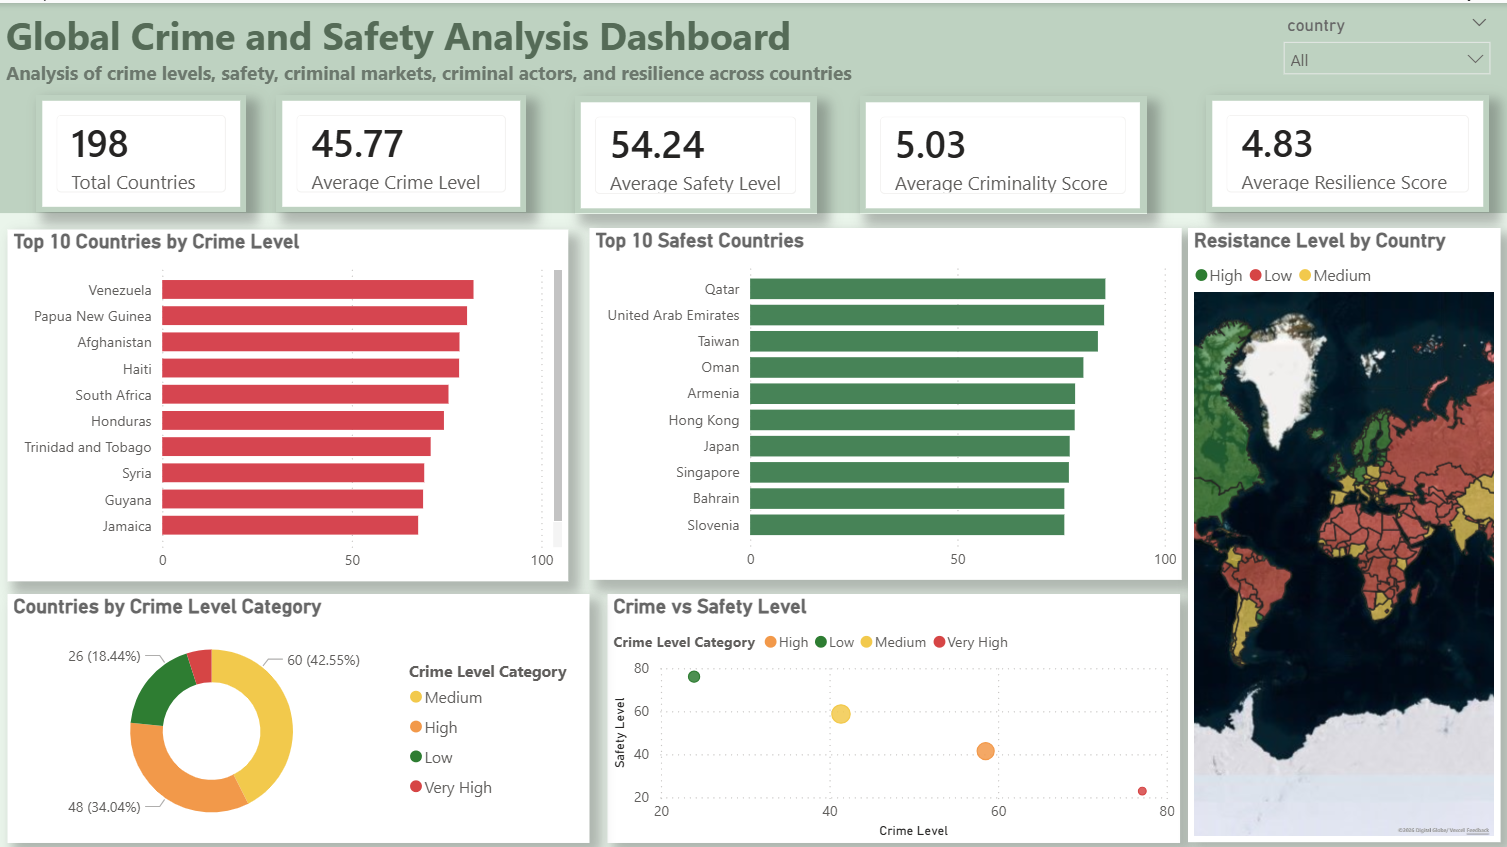

What the dashboard file says about the page in this screenshot:
{"tool":"powerbi","page":{"name":"Page 1","canvas":[1280,720],"ordinal":0},"visuals":[{"type":"shape","box":[0,0,1280,178.3],"z":0},{"type":"cardVisual","fields":{"Data":["CrimeRate.Total Countries"]},"box":[30,77.5,178.8,100],"z":1000},{"type":"cardVisual","fields":{"Data":["CrimeRate.Average Crime Level"]},"box":[234,78,212,100],"z":2000},{"type":"cardVisual","fields":{"Data":["CrimeRate.Average Safety Level"]},"box":[487.1,78.6,205.7,100],"z":3000},{"type":"cardVisual","fields":{"Data":["CrimeRate.Average Resilience Score"]},"box":[1023.8,77.5,240,100],"z":4000},{"type":"cardVisual","fields":{"Data":["CrimeRate.Average Criminality Score"]},"box":[730,78.8,243.8,100],"z":5000},{"type":"textbox","box":[0,0,730,78.6],"z":6000},{"type":"clusteredBarChart","title":"Top 10 Countries by Crime Level","fields":{"Category":["CrimeRate.country"],"Y":["Sum(CrimeRate.Overall Crime Level)"]},"box":[5.8,191.7,475.8,298.3],"z":7000},{"type":"clusteredBarChart","title":"Top 10 Safest Countries","fields":{"Category":["CrimeRate.country"],"Y":["Sum(CrimeRate.Safety Level)"]},"box":[500,191.4,502.9,298.6],"z":8000},{"type":"scatterChart","title":"Crime vs Safety Level","fields":{"X":["Avg(CrimeRate.Overall Crime Level)"],"Y":["Avg(CrimeRate.Safety Level)"],"Series":["CrimeRate.Crime Level Category"],"Size":["Sum(CrimeRate.Criminality Score)"]},"box":[516.2,501.2,486.2,211.2],"z":9000},{"type":"donutChart","title":"Countries by Crime Level Category","fields":{"Category":["CrimeRate.Crime Level Category"],"Y":["CrimeRate.Total Countries"]},"box":[6.2,501.2,493.8,211.2],"z":10000},{"type":"azureMap","title":"Resistance Level by Country","fields":{"Category":["CrimeRate.country"],"Series":["CrimeRate.Resistance Category"]},"box":[1008.8,191.2,265,521.2],"z":11000},{"type":"slicer","fields":{"Values":["CrimeRate.country"]},"box":[1080,5,195,66.7],"z":12000}]}

Visuals, with their boxes in screenshot pixels (x1, y1, x2, y2), scaled from the page's 1280x720 canvas onto the 1507x847 screenshot:
shape: x1=0, y1=0, x2=1506, y2=210
cardVisual - CrimeRate.Total Countries: x1=35, y1=91, x2=246, y2=209
cardVisual - CrimeRate.Average Crime Level: x1=275, y1=92, x2=525, y2=209
cardVisual - CrimeRate.Average Safety Level: x1=573, y1=92, x2=816, y2=210
cardVisual - CrimeRate.Average Resilience Score: x1=1205, y1=91, x2=1488, y2=209
cardVisual - CrimeRate.Average Criminality Score: x1=859, y1=93, x2=1146, y2=210
textbox: x1=0, y1=0, x2=859, y2=92
"Top 10 Countries by Crime Level" clusteredBarChart: x1=7, y1=226, x2=567, y2=576
"Top 10 Safest Countries" clusteredBarChart: x1=589, y1=225, x2=1181, y2=576
"Crime vs Safety Level" scatterChart: x1=608, y1=590, x2=1180, y2=838
"Countries by Crime Level Category" donutChart: x1=7, y1=590, x2=589, y2=838
"Resistance Level by Country" azureMap: x1=1188, y1=225, x2=1500, y2=838
slicer - CrimeRate.country: x1=1272, y1=6, x2=1501, y2=84
